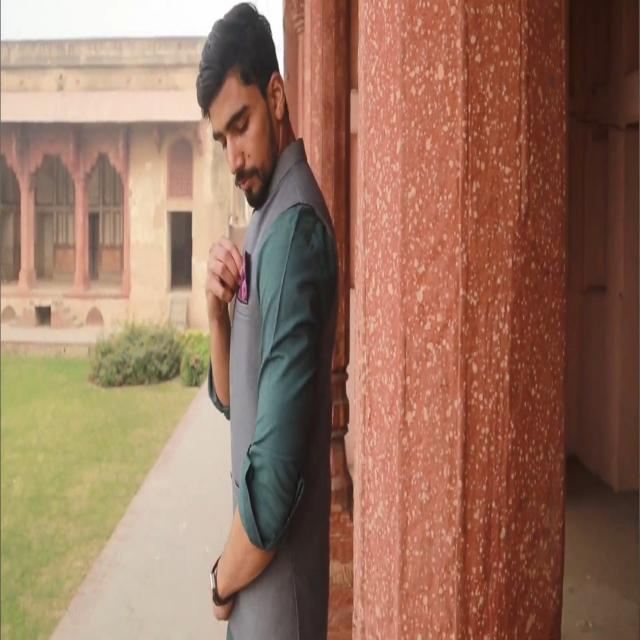dress: (203, 127, 342, 640)
